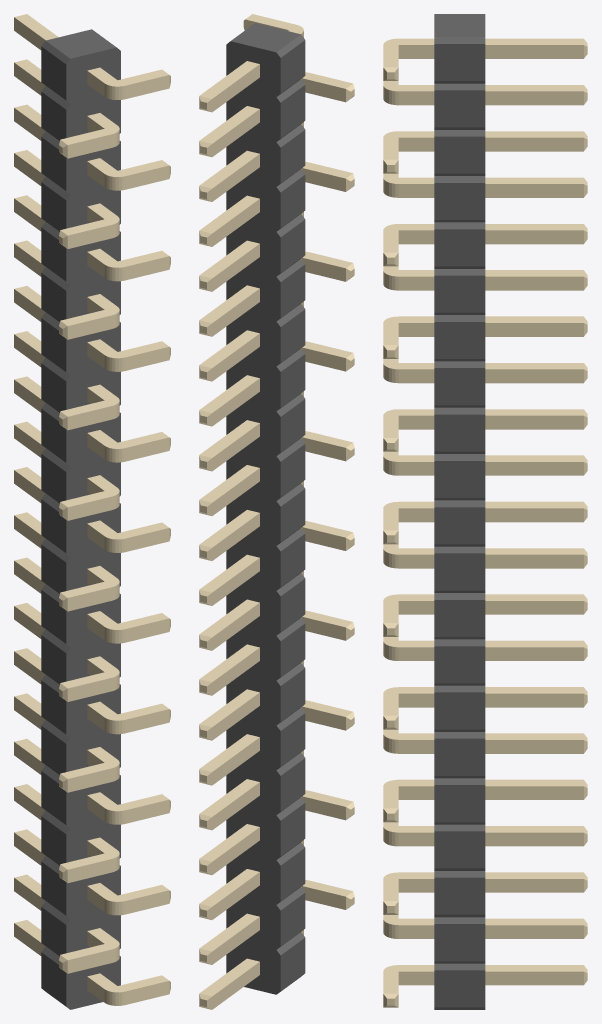
File: PinHeader_1x21_P1.00mm_Vertical_SMD_Pin1Left.glb
3 views of the same model, side by side, from view 1: azimuth 30°, elevation 25°; view 2: azimuth 150°, elevation 25°; view 3: azimuth 270°, elevation 25° (orthographic). The views are drawn at different scales.
Visible parts, largest first — view 1: Shape_IndexedFaceSet.003, Shape_IndexedFaceSet.001, Shape_IndexedFaceSet.007, Shape_IndexedFaceSet.019, Shape_IndexedFaceSet.031, Shape_IndexedFaceSet.091, Shape_IndexedFaceSet.043, Shape_IndexedFaceSet.055, Shape_IndexedFaceSet.067, Shape_IndexedFaceSet.079, Shape_IndexedFaceSet.103, Shape_IndexedFaceSet.115 (+75 smaller); view 2: Shape_IndexedFaceSet.004, Shape_IndexedFaceSet.001, Shape_IndexedFaceSet.013, Shape_IndexedFaceSet.037, Shape_IndexedFaceSet.049, Shape_IndexedFaceSet.061, Shape_IndexedFaceSet.097, Shape_IndexedFaceSet.019, Shape_IndexedFaceSet.043, Shape_IndexedFaceSet.085, Shape_IndexedFaceSet.091, Shape_IndexedFaceSet.103 (+64 smaller); view 3: Shape_IndexedFaceSet.070, Shape_IndexedFaceSet.088, Shape_IndexedFaceSet.010, Shape_IndexedFaceSet.016, Shape_IndexedFaceSet.028, Shape_IndexedFaceSet.034, Shape_IndexedFaceSet.046, Shape_IndexedFaceSet.052, Shape_IndexedFaceSet.064, Shape_IndexedFaceSet.082, Shape_IndexedFaceSet.094, Shape_IndexedFaceSet.100 (+84 smaller).
Part boxes in pixels (left/top/right/bottom): Shape_IndexedFaceSet.003: left=66, top=47, right=120, bottom=1009; Shape_IndexedFaceSet.001: left=46, top=29, right=116, bottom=58; Shape_IndexedFaceSet.007: left=41, top=46, right=66, bottom=100; Shape_IndexedFaceSet.019: left=41, top=137, right=66, bottom=190; Shape_IndexedFaceSet.031: left=41, top=227, right=66, bottom=281; Shape_IndexedFaceSet.091: left=41, top=680, right=66, bottom=734; Shape_IndexedFaceSet.043: left=41, top=318, right=66, bottom=371; Shape_IndexedFaceSet.055: left=41, top=409, right=66, bottom=462; Shape_IndexedFaceSet.067: left=41, top=499, right=66, bottom=553; Shape_IndexedFaceSet.079: left=41, top=590, right=66, bottom=643; Shape_IndexedFaceSet.103: left=41, top=771, right=66, bottom=824; Shape_IndexedFaceSet.115: left=41, top=862, right=66, bottom=915; Shape_IndexedFaceSet.004: left=226, top=41, right=280, bottom=994; Shape_IndexedFaceSet.001: left=231, top=23, right=300, bottom=52; Shape_IndexedFaceSet.013: left=280, top=85, right=305, bottom=138; Shape_IndexedFaceSet.037: left=280, top=264, right=305, bottom=317; Shape_IndexedFaceSet.049: left=280, top=354, right=305, bottom=407; Shape_IndexedFaceSet.061: left=280, top=444, right=305, bottom=497; Shape_IndexedFaceSet.097: left=280, top=713, right=305, bottom=766; Shape_IndexedFaceSet.019: left=280, top=130, right=305, bottom=183; Shape_IndexedFaceSet.043: left=280, top=309, right=305, bottom=362; Shape_IndexedFaceSet.085: left=280, top=623, right=305, bottom=676; Shape_IndexedFaceSet.091: left=280, top=668, right=305, bottom=721; Shape_IndexedFaceSet.103: left=280, top=758, right=305, bottom=811; Shape_IndexedFaceSet.070: left=434, top=553, right=485, bottom=590; Shape_IndexedFaceSet.088: left=434, top=692, right=485, bottom=729; Shape_IndexedFaceSet.010: left=434, top=90, right=485, bottom=127; Shape_IndexedFaceSet.016: left=434, top=136, right=485, bottom=173; Shape_IndexedFaceSet.028: left=434, top=229, right=485, bottom=266; Shape_IndexedFaceSet.034: left=434, top=275, right=485, bottom=312; Shape_IndexedFaceSet.046: left=434, top=368, right=485, bottom=405; Shape_IndexedFaceSet.052: left=434, top=414, right=485, bottom=451; Shape_IndexedFaceSet.064: left=434, top=507, right=485, bottom=544; Shape_IndexedFaceSet.082: left=434, top=646, right=485, bottom=683; Shape_IndexedFaceSet.094: left=434, top=738, right=485, bottom=775; Shape_IndexedFaceSet.100: left=434, top=785, right=485, bottom=822.
Size of the model in its own units: 0.984 by 8.27 by 1.58.
